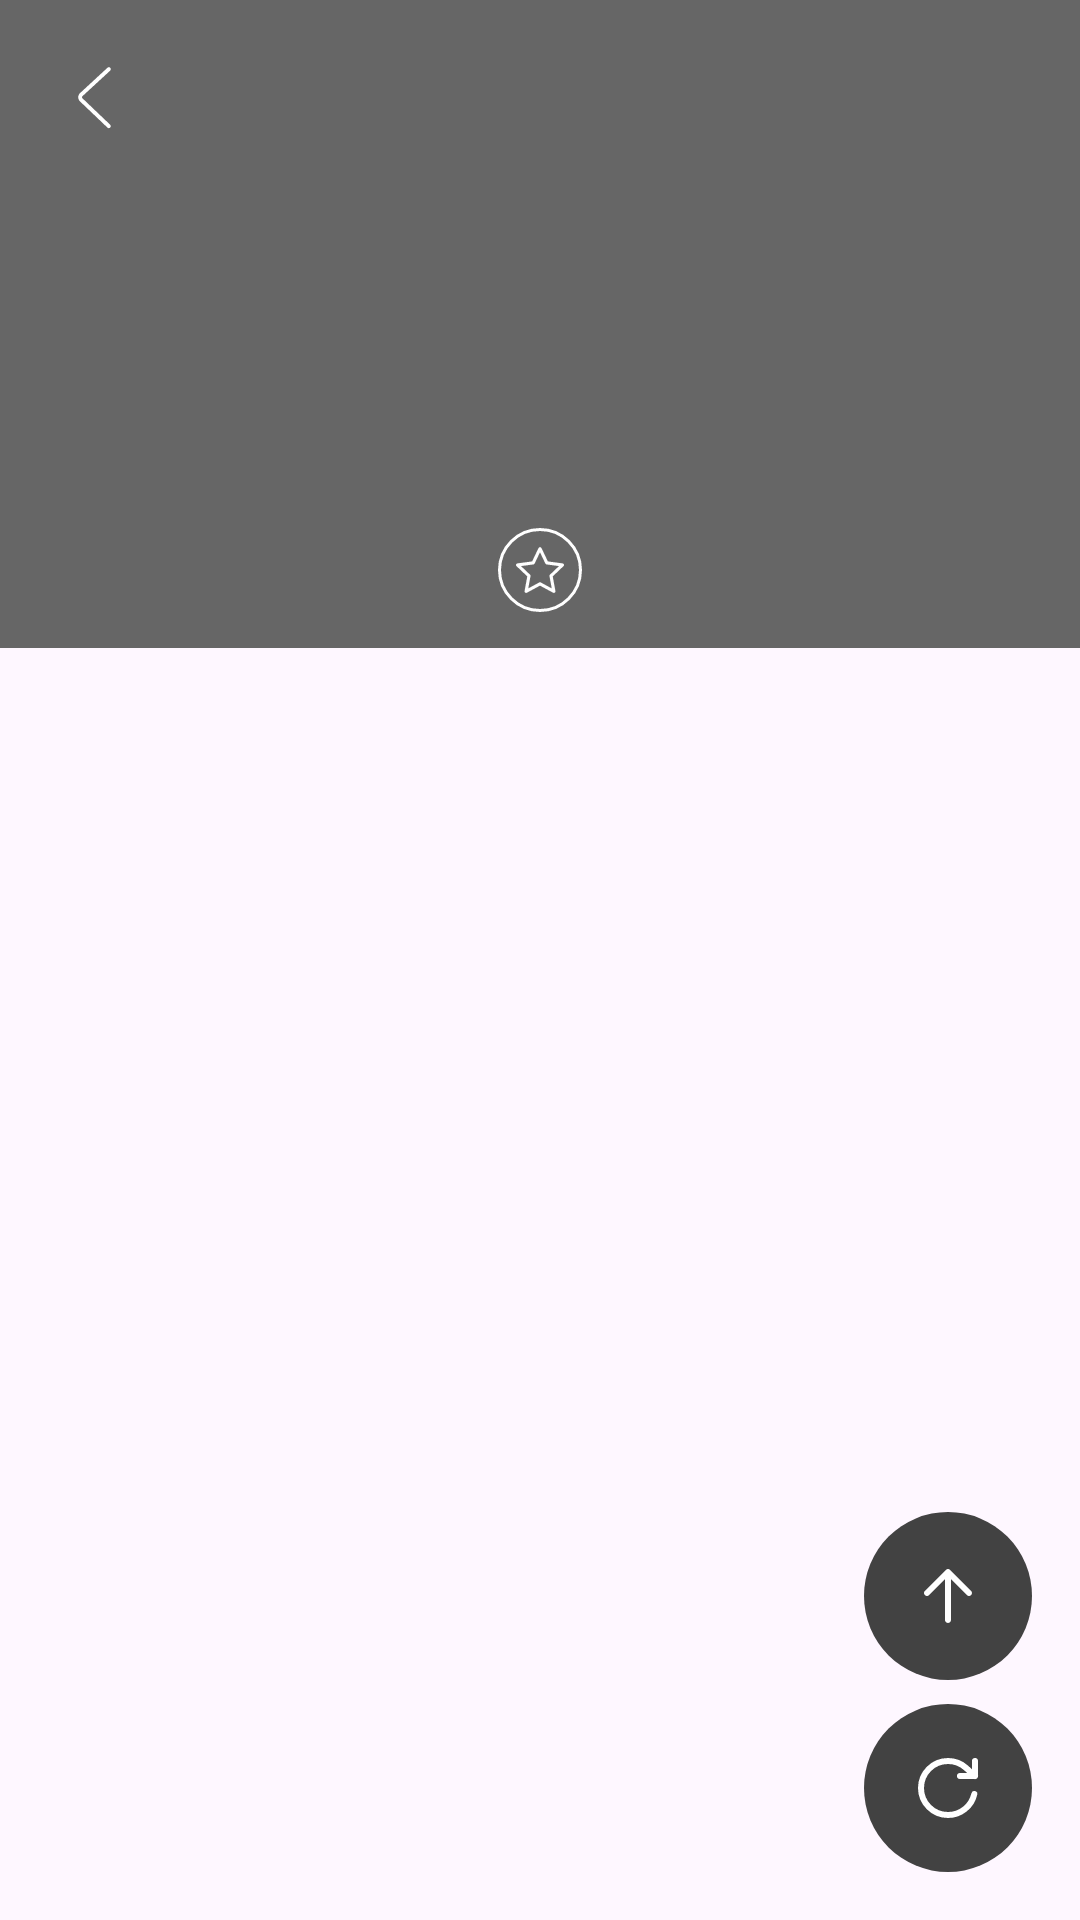

Point at icon controls on the screen. Image size 1080*1920, points as [x,y].
back: [94,97]
off book mark: [540,570]
refresh: [948,1788]
up arrow: [948,1596]
